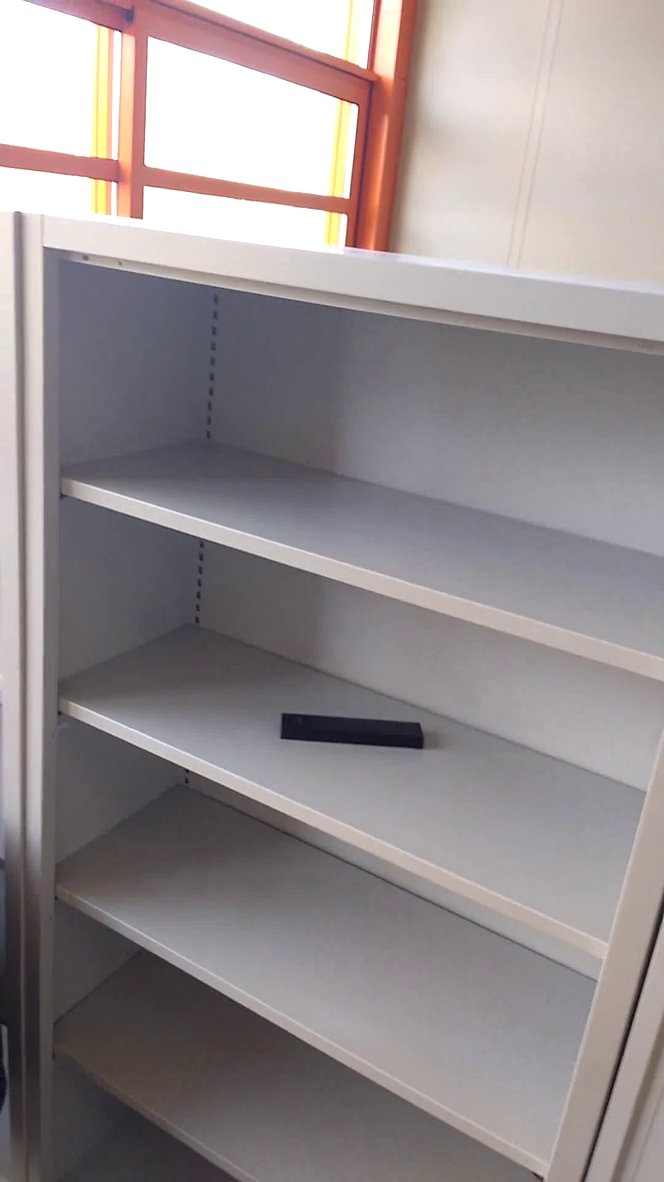remote: (266, 700, 438, 756)
